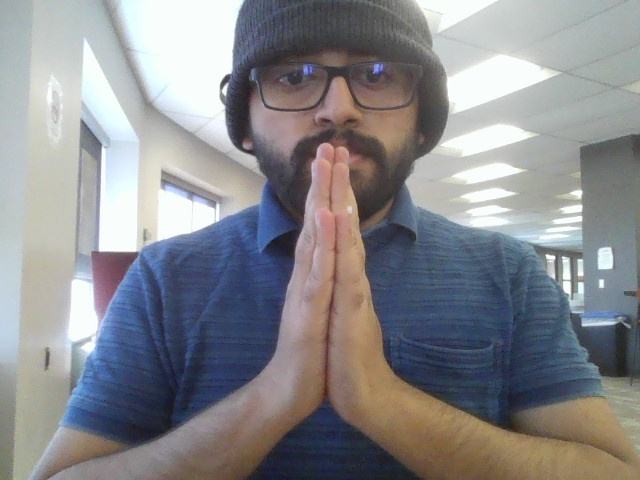start: (272, 131, 391, 456)
